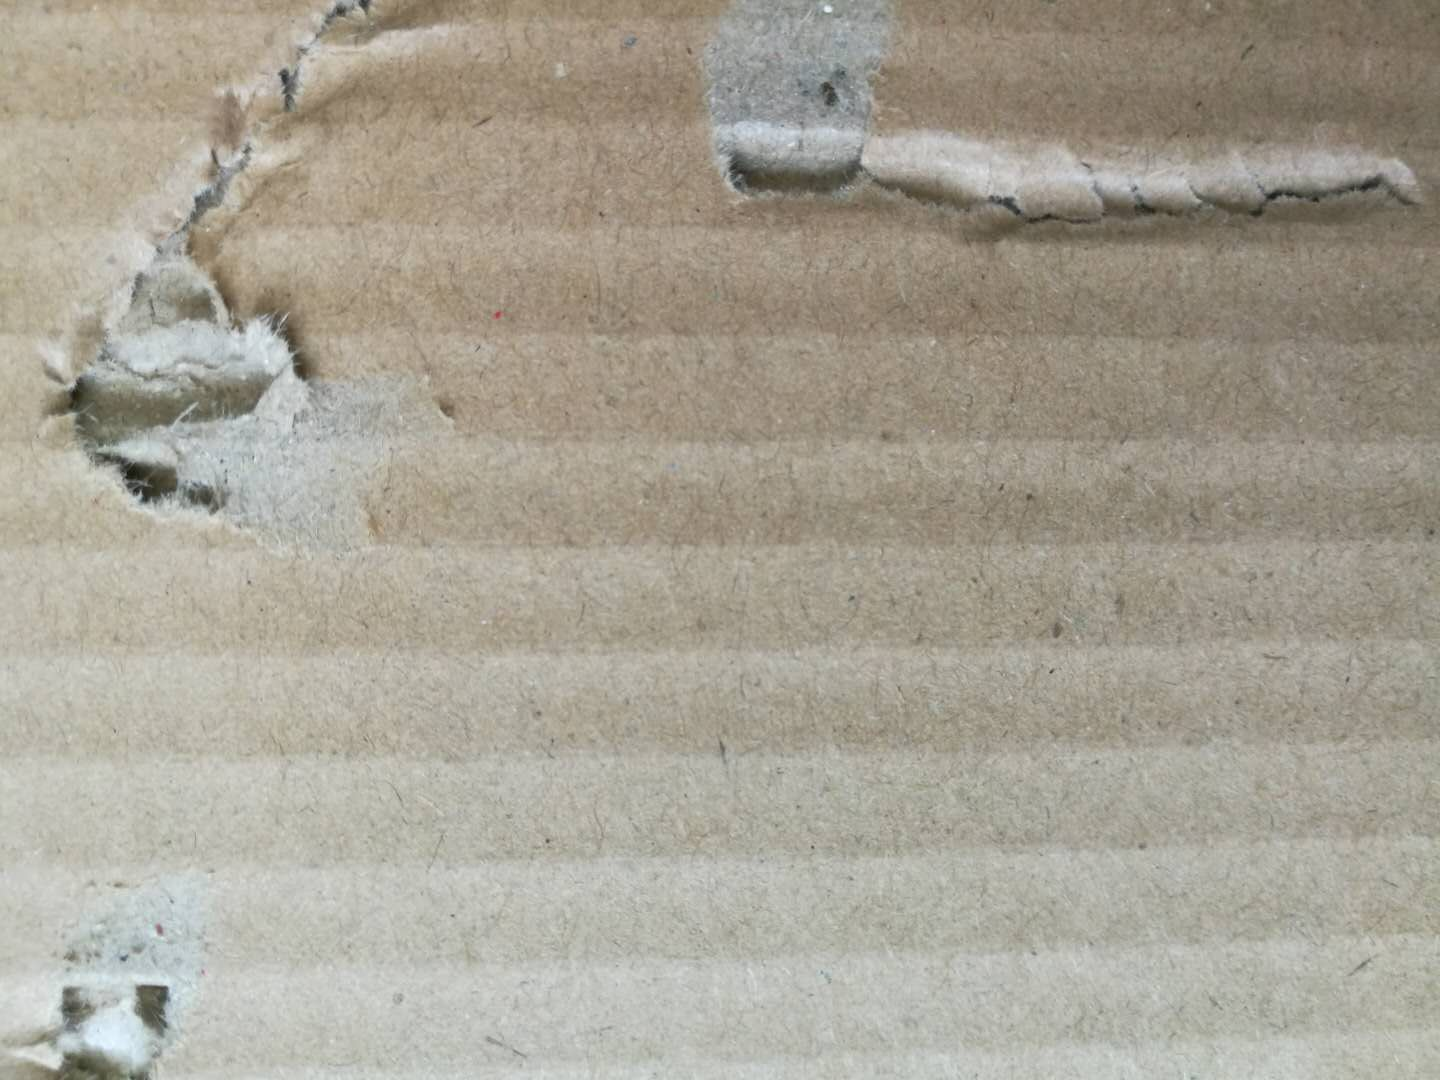defect: (5, 1, 505, 592), (664, 1, 1440, 268), (1, 838, 245, 1080)
